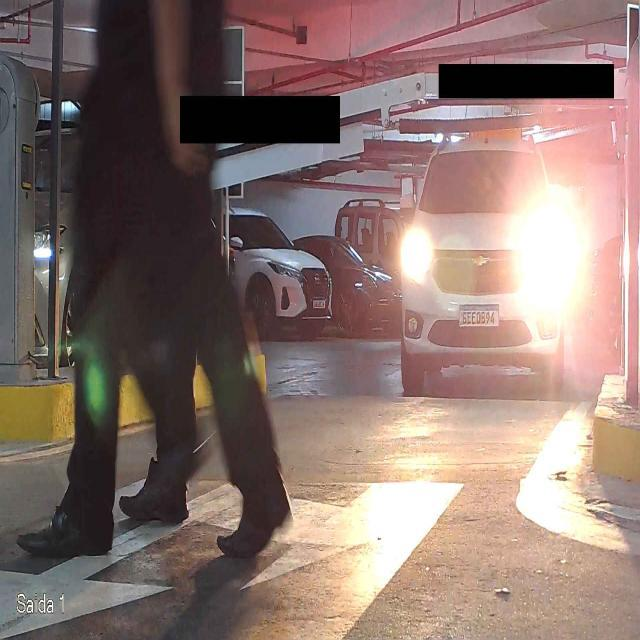mercosul_plate: (458, 303, 502, 328)
